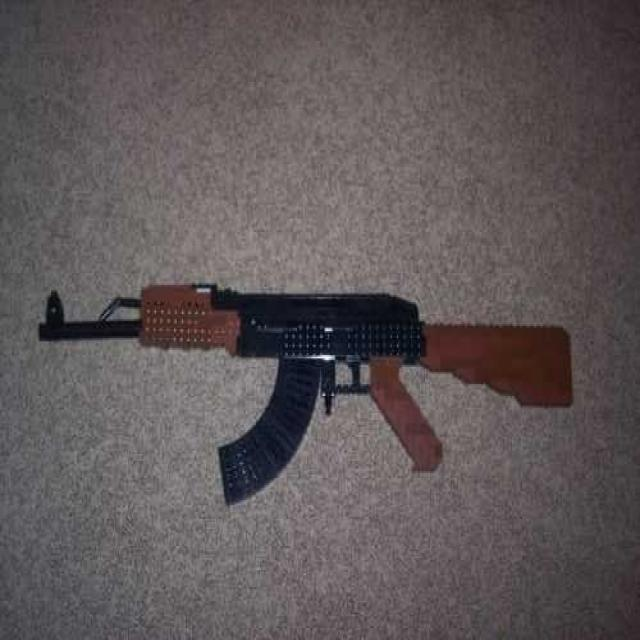Rifle: (22, 256, 590, 517)
